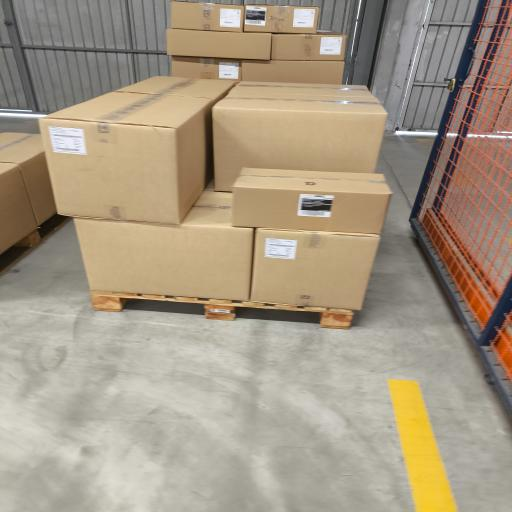pallet: (91, 292, 353, 329), (0, 215, 71, 275)
